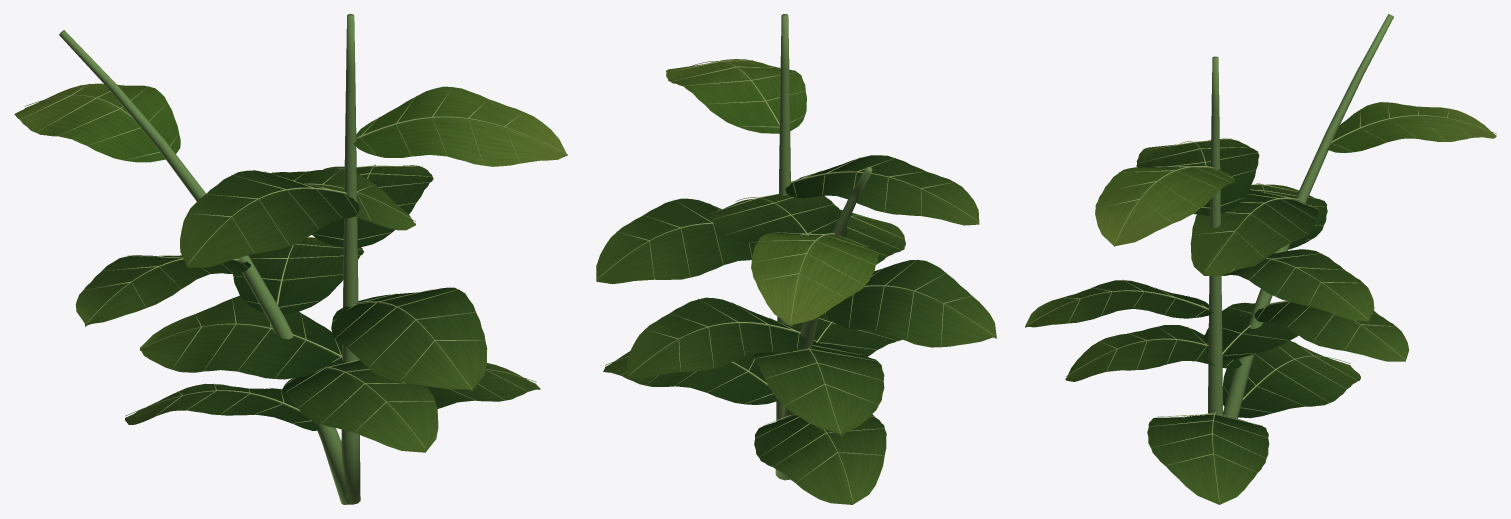
File: poppy-05.glb
3 views of the same model, side by side, from view 1: azimuth 30°, elevation 25°; view 2: azimuth 150°, elevation 25°; view 3: azimuth 270°, elevation 25° (orthographic). The views are drawn at different scales.
Visible parts, largest first — view 1: poppy_stage_05_leaf_veins.008, poppy_stage_05_young_leaf.008, poppy_stage_05_stem_fibres.008, poppy_stage_05_raised_midveins.008; view 2: poppy_stage_05_leaf_veins.008, poppy_stage_05_young_leaf.008, poppy_stage_05_raised_midveins.008, poppy_stage_05_stem_fibres.008; view 3: poppy_stage_05_leaf_veins.008, poppy_stage_05_young_leaf.008, poppy_stage_05_stem_fibres.008, poppy_stage_05_raised_midveins.008.
Part boxes in pixels (x1,y1,x2,y2): poppy_stage_05_leaf_veins.008: (75,165,540,452); poppy_stage_05_young_leaf.008: (14,83,567,166); poppy_stage_05_stem_fibres.008: (59,14,360,504); poppy_stage_05_raised_midveins.008: (20,83,567,448); poppy_stage_05_leaf_veins.008: (596,155,996,504); poppy_stage_05_young_leaf.008: (666,59,878,325); poppy_stage_05_raised_midveins.008: (596,60,995,500); poppy_stage_05_stem_fibres.008: (775,14,872,480); poppy_stage_05_leaf_veins.008: (1025,138,1409,504); poppy_stage_05_young_leaf.008: (1095,102,1496,246); poppy_stage_05_stem_fibres.008: (1208,14,1393,418); poppy_stage_05_raised_midveins.008: (1026,102,1496,502).
Size of the model in its own units: 0.2026 by 0.2181 by 0.2176.
Materials: 4 (2 with a texture image).
